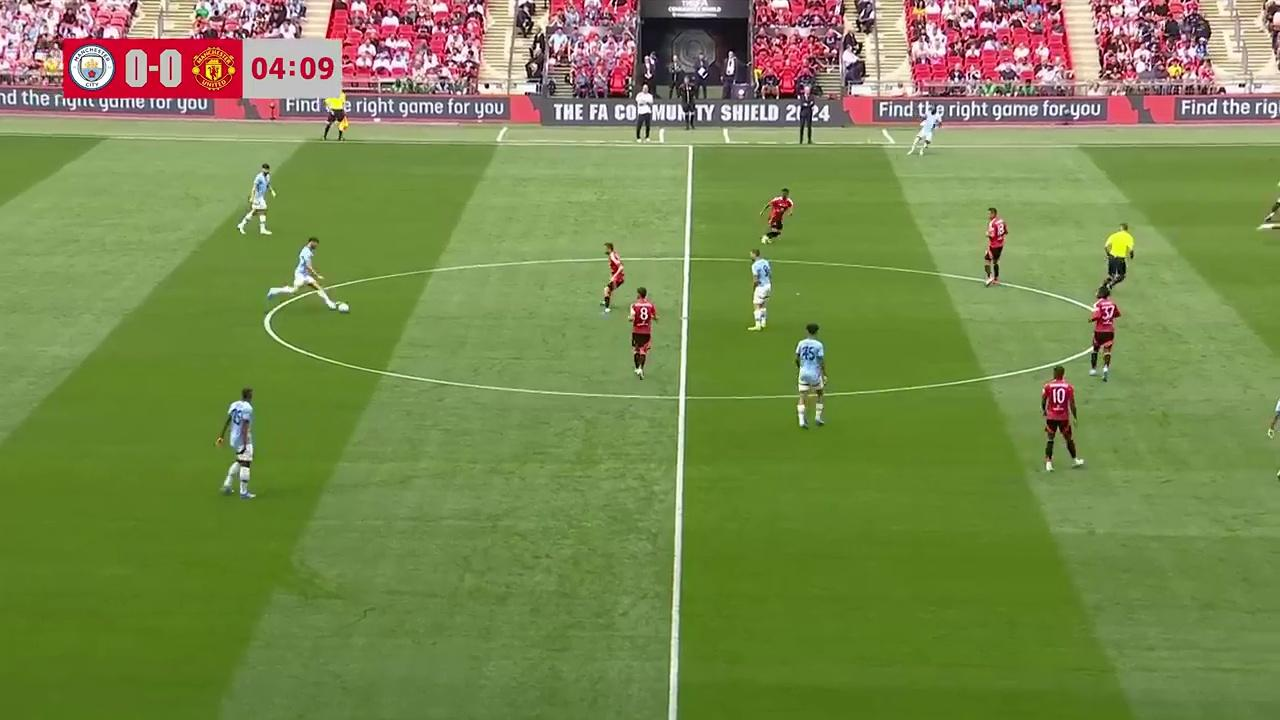ball: (335, 300, 350, 313)
player: (1040, 365, 1084, 472), (217, 387, 256, 499), (794, 323, 827, 428), (1087, 283, 1122, 380), (627, 286, 658, 380), (237, 165, 275, 235), (289, 237, 326, 299), (759, 187, 794, 245), (983, 207, 1008, 286), (748, 249, 772, 331), (601, 242, 625, 314), (1257, 175, 1280, 234), (907, 112, 936, 156), (1267, 394, 1280, 491), (1266, 388, 1280, 444)
referee: (1102, 222, 1135, 288), (322, 90, 348, 142)
